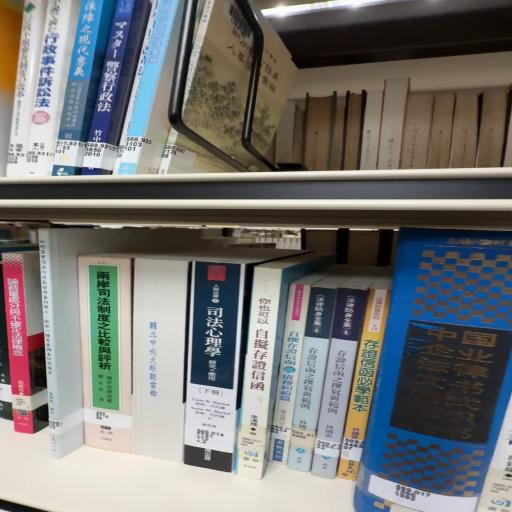backward: (129, 259, 187, 467)
book: (232, 255, 332, 482), (185, 261, 247, 477), (287, 286, 337, 483)
